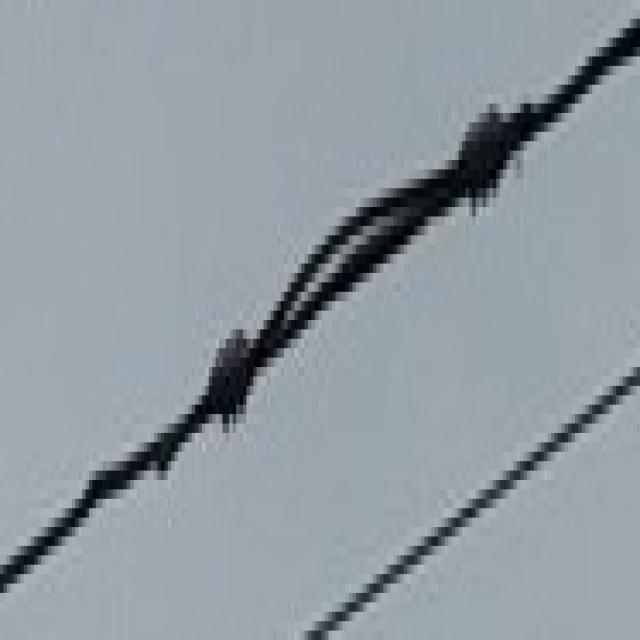wire: (0, 0, 640, 640), (294, 336, 640, 640)
